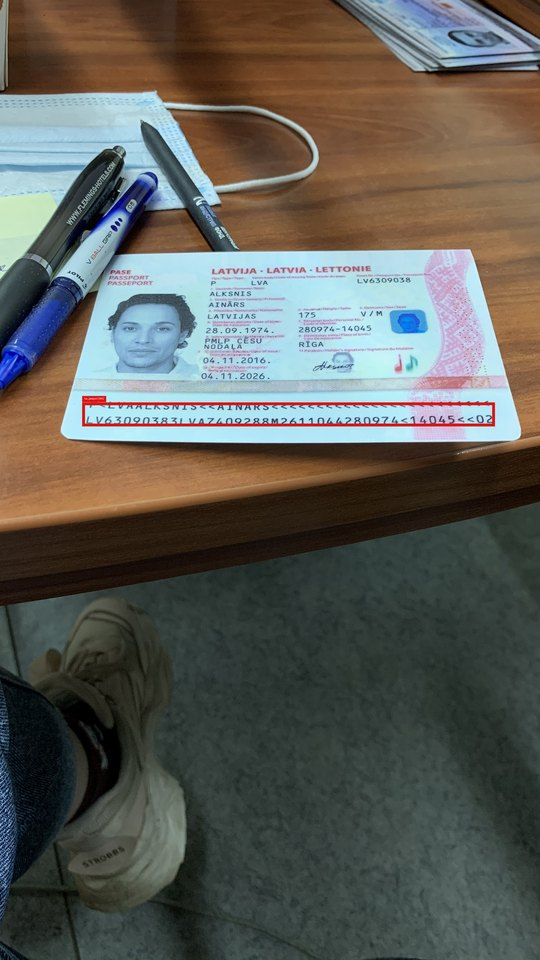MRZ: (82, 403, 495, 426)
